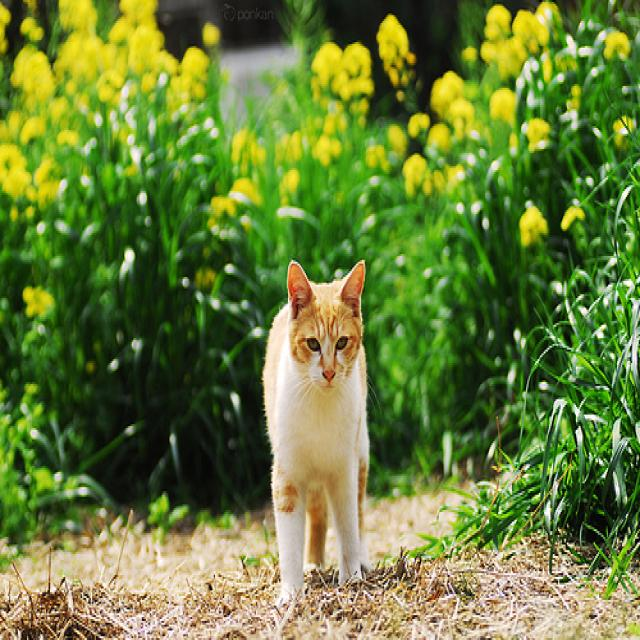left eye: (334, 332, 350, 352)
